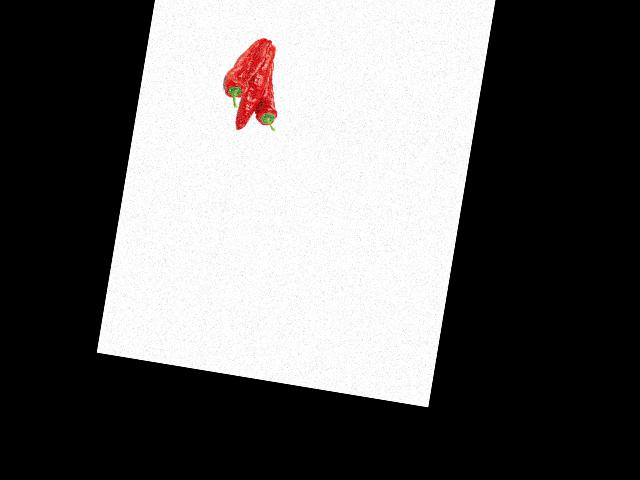bell_pepper: (217, 31, 263, 112)
